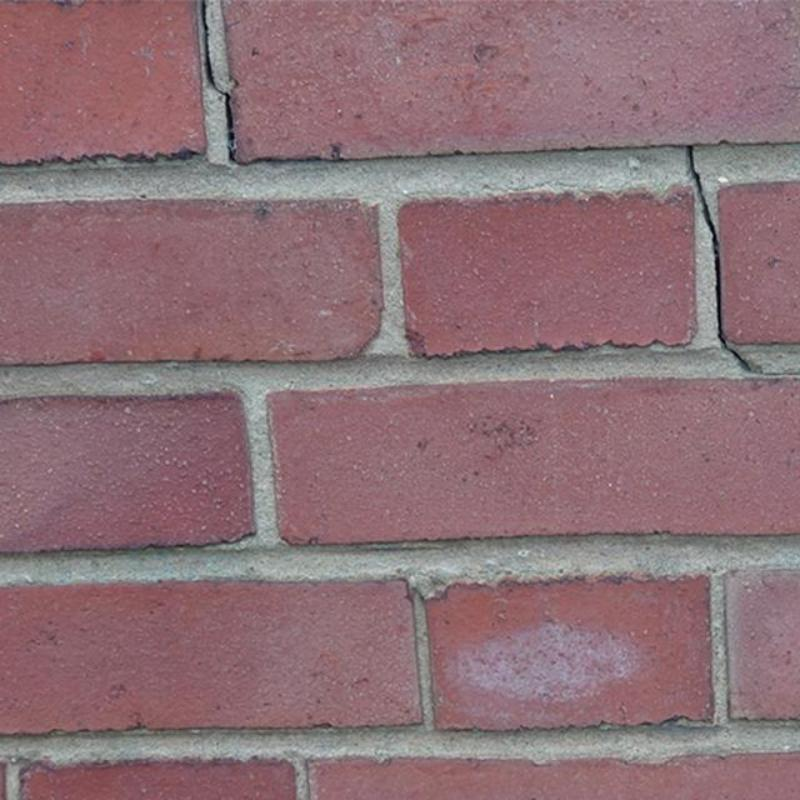pothole: (686, 146, 764, 373), (199, 1, 240, 165)
